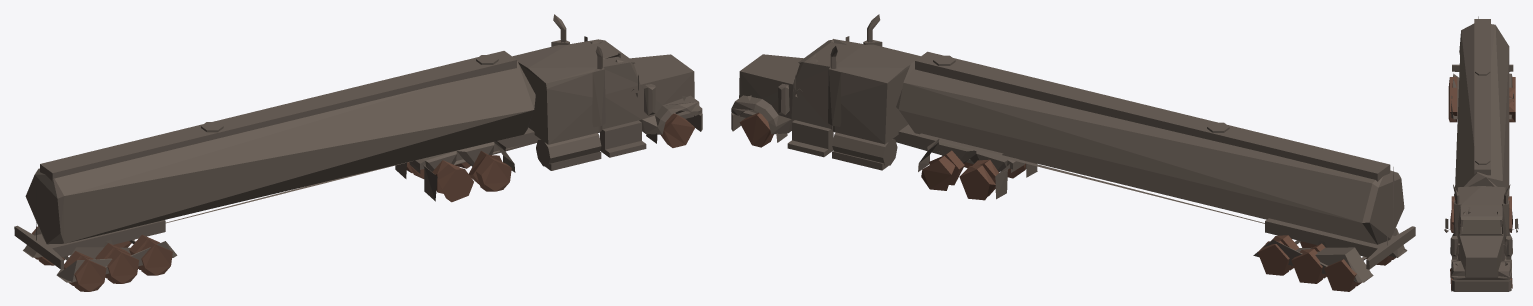
File: oil-tanker.lod1.glb
3 views of the same model, side by side, from view 1: azimuth 30°, elevation 25°; view 2: azimuth 150°, elevation 25°; view 3: azimuth 270°, elevation 25° (orthographic). The views are drawn at different scales.
Parts seen in each view (by area): view 1: Frieghtliner Oil Tanker_Body_0; view 2: Frieghtliner Oil Tanker_Body_0; view 3: Frieghtliner Oil Tanker_Body_0.
Boxes of the visible parts, bbox=[...] form: Frieghtliner Oil Tanker_Body_0: bbox=[14, 14, 702, 291]; Frieghtliner Oil Tanker_Body_0: bbox=[731, 14, 1415, 291]; Frieghtliner Oil Tanker_Body_0: bbox=[1444, 16, 1518, 291].
Size of the model in its own units: 19 by 3.43 by 2.87.
